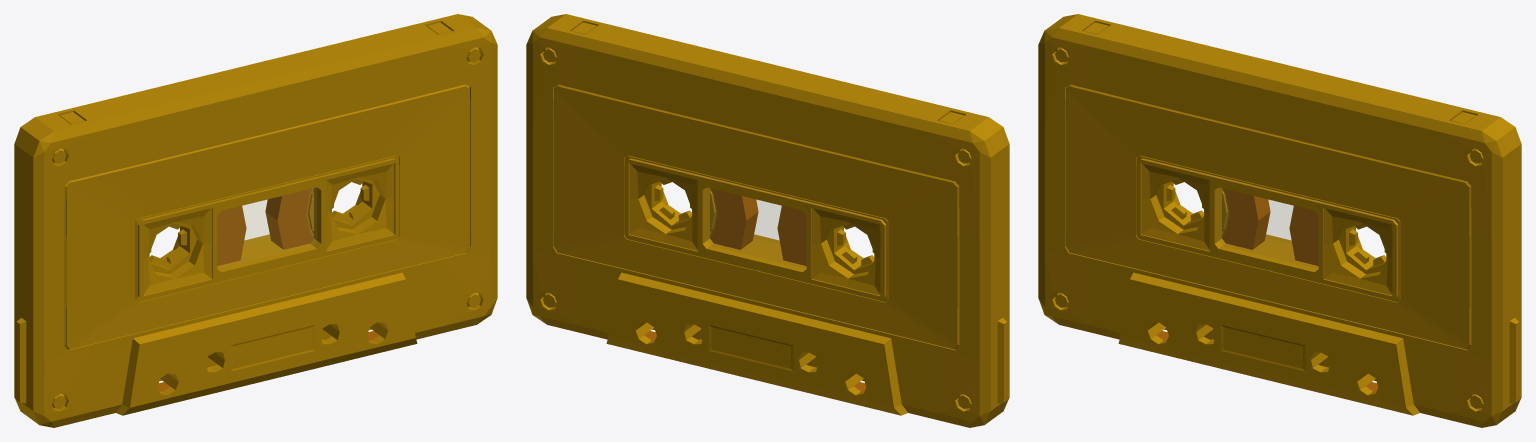
The model's file is tape.fbx.
3 renders of one model, left to right at view 1: azimuth 30°, elevation 25°; view 2: azimuth 150°, elevation 25°; view 3: azimuth 330°, elevation 25°, orthographic.
Visible parts, largest first — view 1: Cube.001; view 2: Cube.001; view 3: Cube.001.
Boxes of the visible parts, bbox=[...] form: Cube.001: bbox=[14, 14, 497, 427]; Cube.001: bbox=[526, 14, 1009, 427]; Cube.001: bbox=[1038, 14, 1521, 427].
Bounding box in the file's own units: 28.78 × 17.17 × 3.54.
